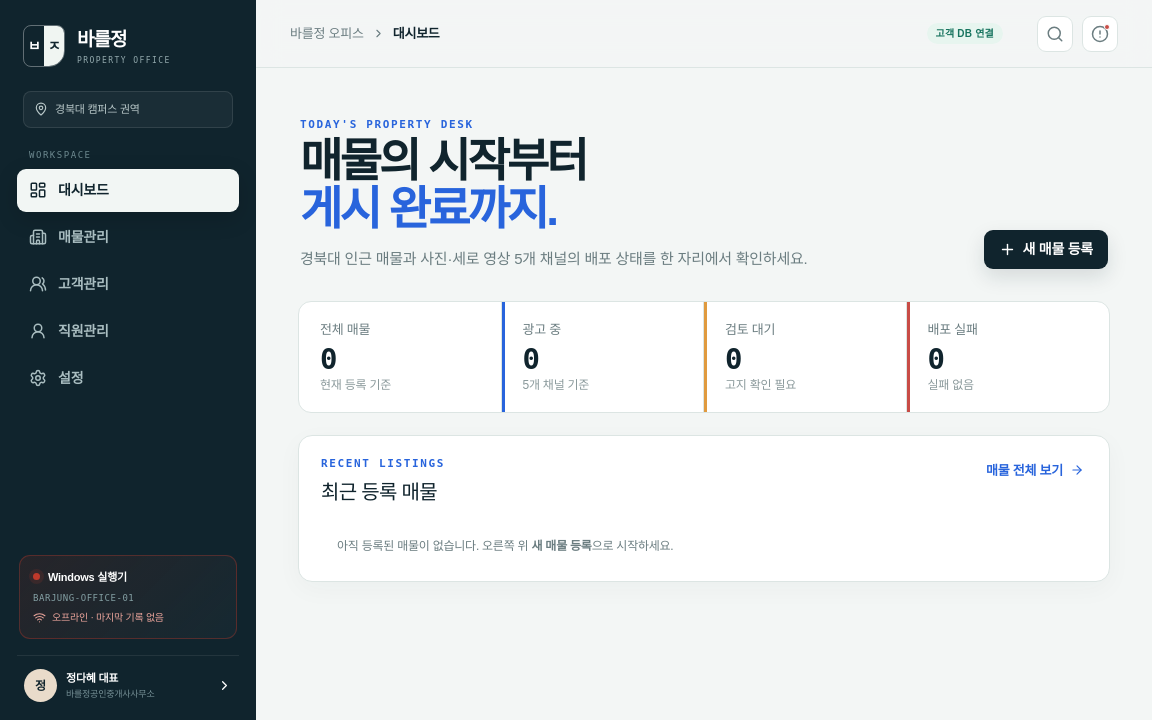
Test: BarjungApp live mode (customer Supabase via /api) › renders the server snapshot, posts new customers to the API and shows API errors
Expected: the text "고객 DB 연결" is shown, [927,23,1003,44]
Expected: the text "아직 등록된 매물이 없습니다" is shown, [337,538,532,552]
Click the button "고객관리".
click(128, 284)  # box [17,262,239,306]
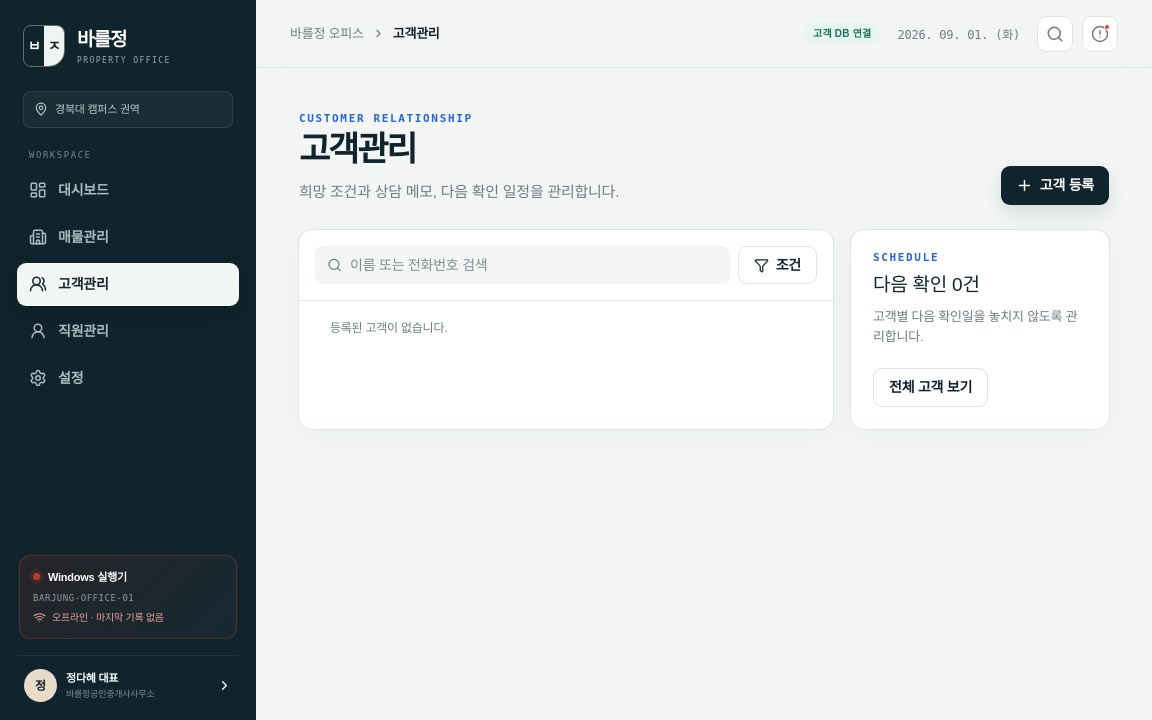
Click the button "고객 등록".
click(1055, 186)  # box [1001,166,1109,205]
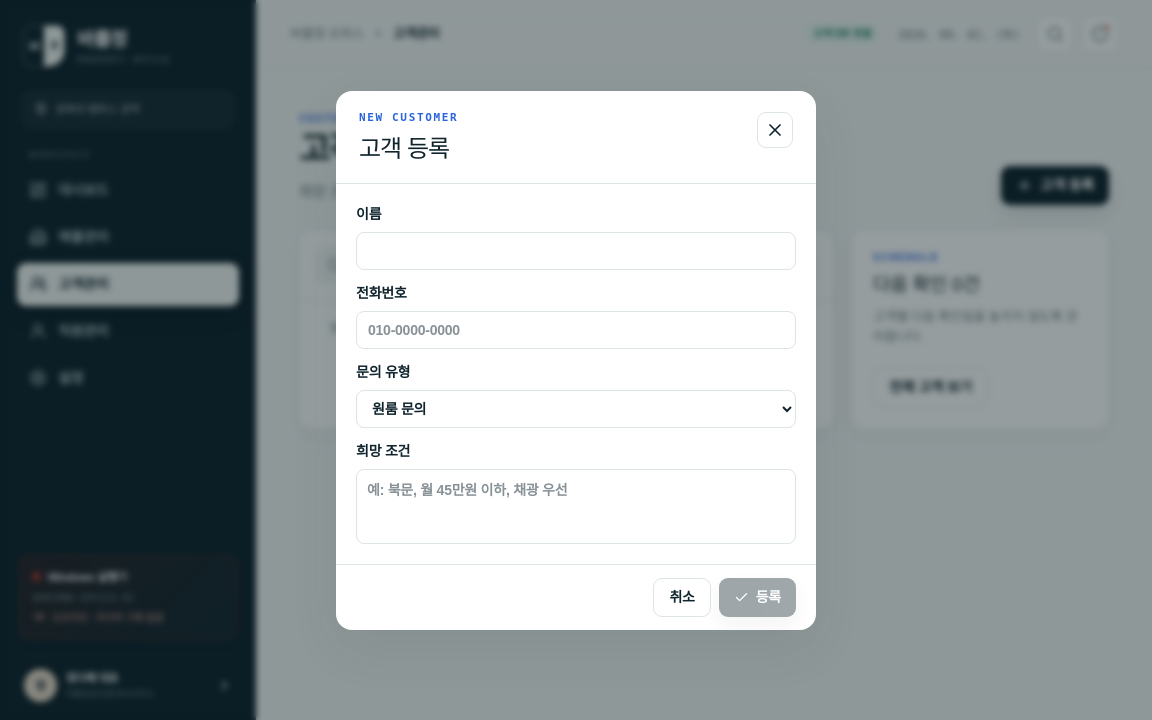
Type "라이브고객" into the field labelled "이름".
click(576, 250); type("라이브고객")  # box [356,232,796,270]
Type "010-9999-9999" into the field labelled "전화번호".
click(576, 330); type("010-9999-9999")  # box [356,310,796,348]
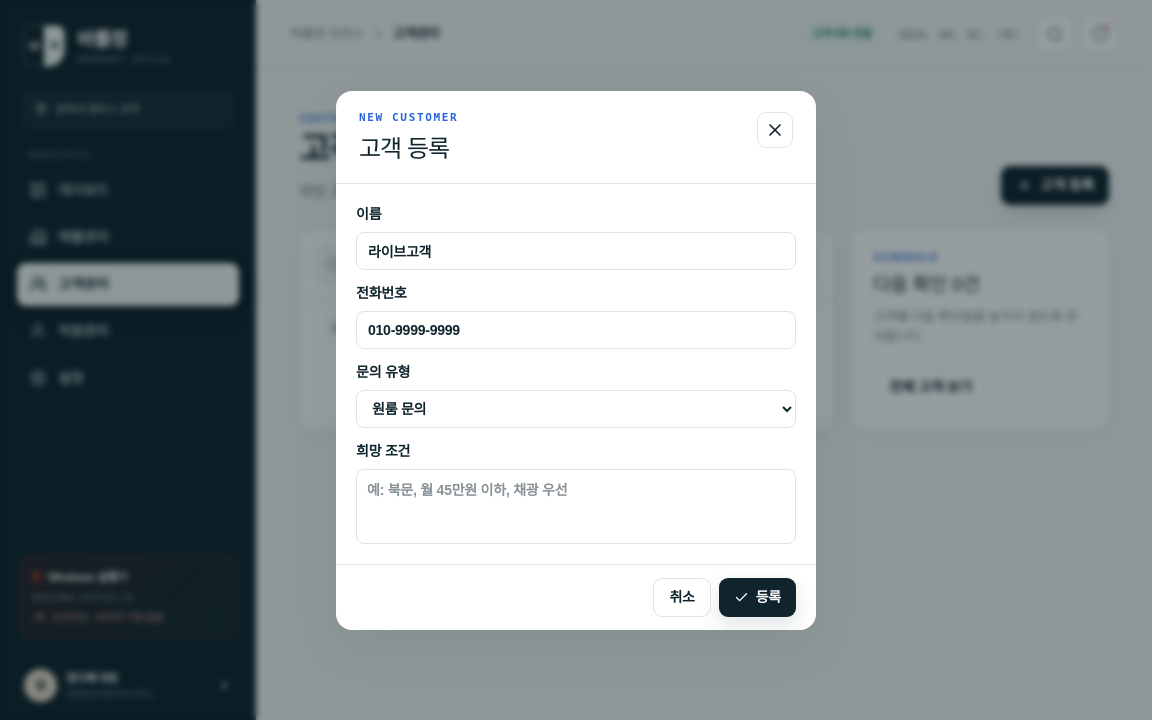
Click the button "등록".
click(757, 597)  # box [719,578,796,616]
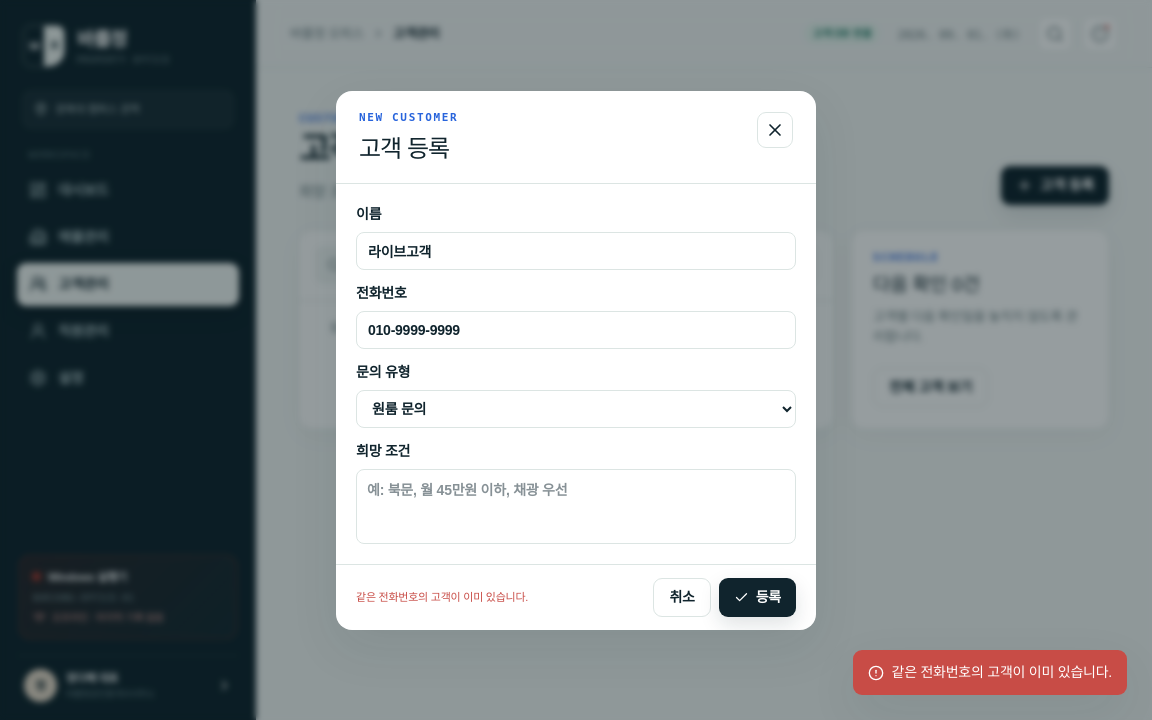
Replace the text in the field labelled "전화번호" with "010-5555-5555" at (576, 330), box [356,310,796,348]
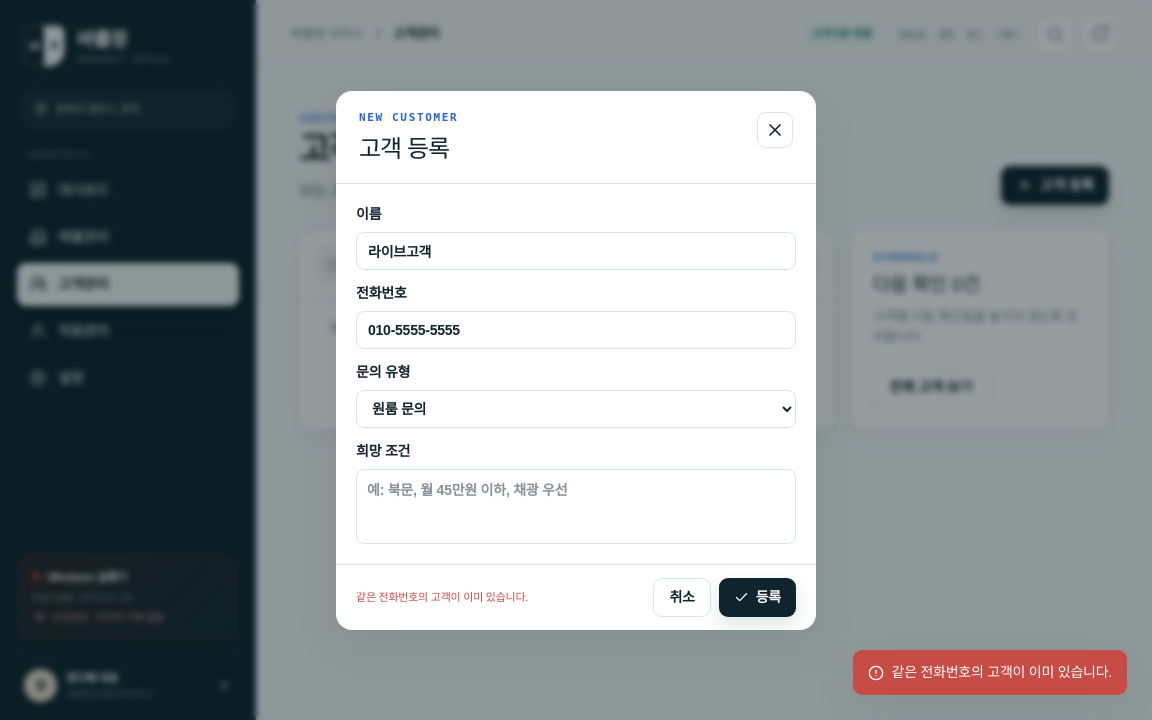
Click the button "등록".
click(757, 597)  # box [719,578,796,616]
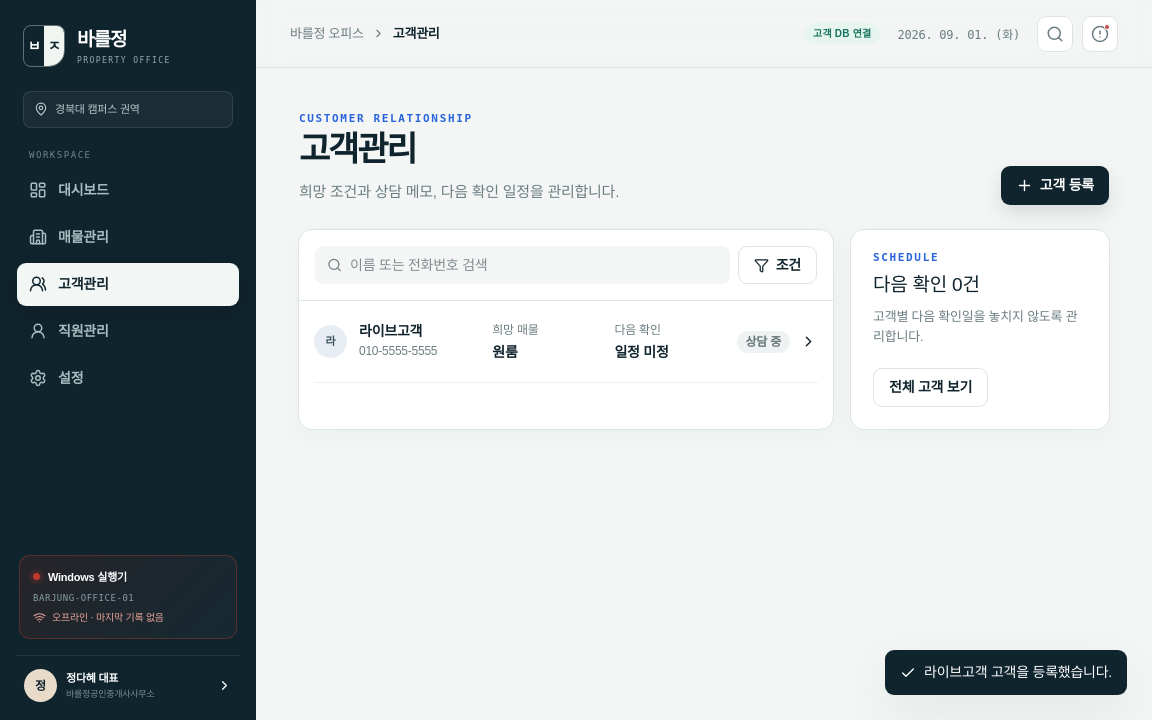
Result: the button "라 라이브고객 010-5555-5555 희망 매물 원룸 다음 확인 일정 미정 상담 중" is shown at [314,301,818,383]
